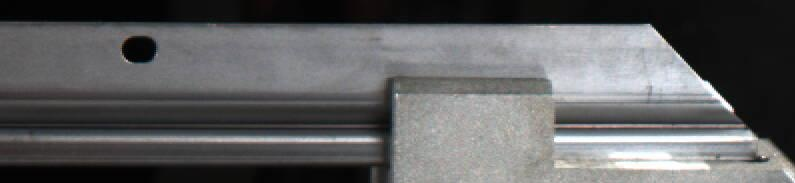cut: (567, 21, 773, 166)
holes: (120, 33, 158, 64)
